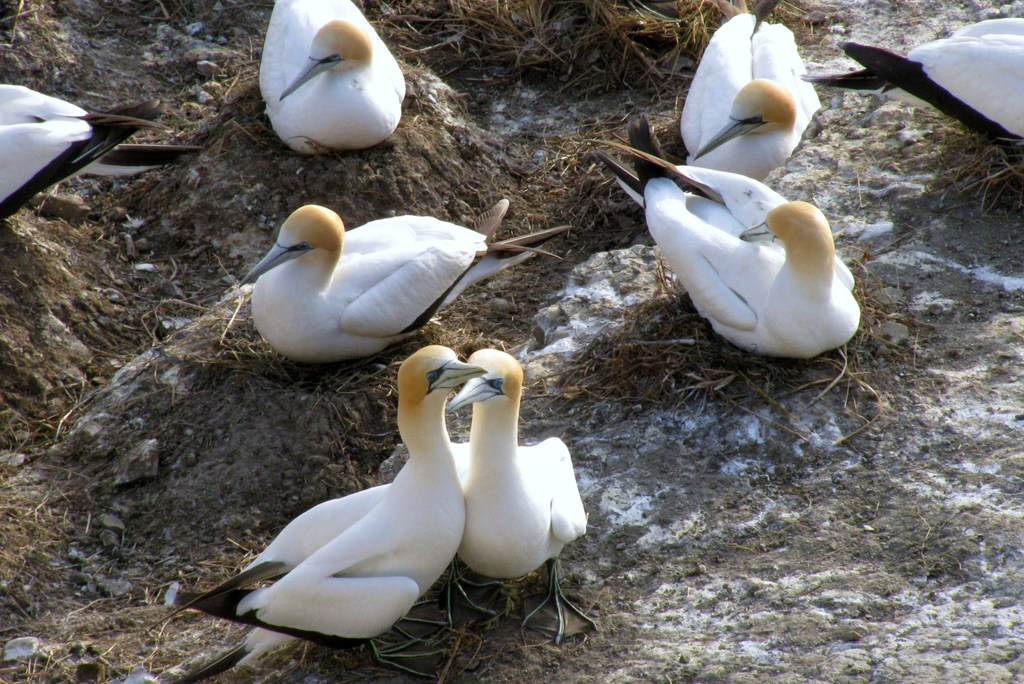Bird: (0, 0, 1024, 679)
